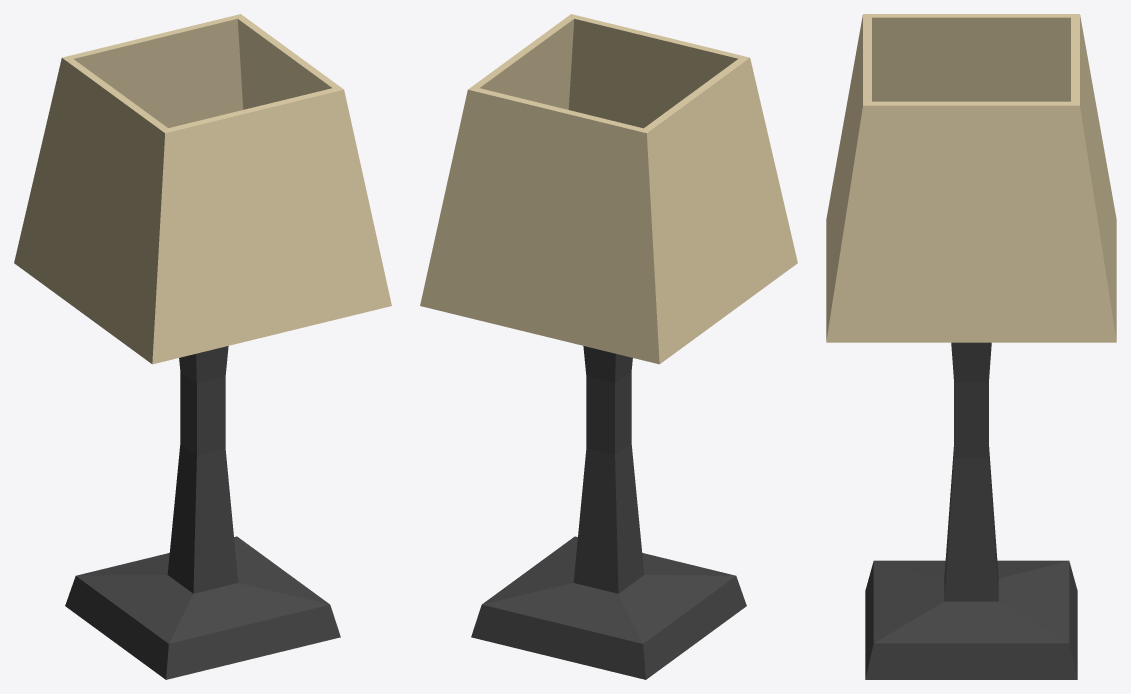
Rendered from lamp.fbx.
3 renders of one model, left to right at view 1: azimuth 30°, elevation 25°; view 2: azimuth 150°, elevation 25°; view 3: azimuth 270°, elevation 25°, orthographic. The views are drawn at different scales.
Parts seen in each view (by area): view 1: Lamp; view 2: Lamp; view 3: Lamp.
Boxes of the visible parts, <box> form: Lamp: <box>14,14,391,679</box>; Lamp: <box>420,14,797,679</box>; Lamp: <box>826,14,1116,679</box>.
Size of the model in its own units: 24.75 by 24.75 by 54.11.
